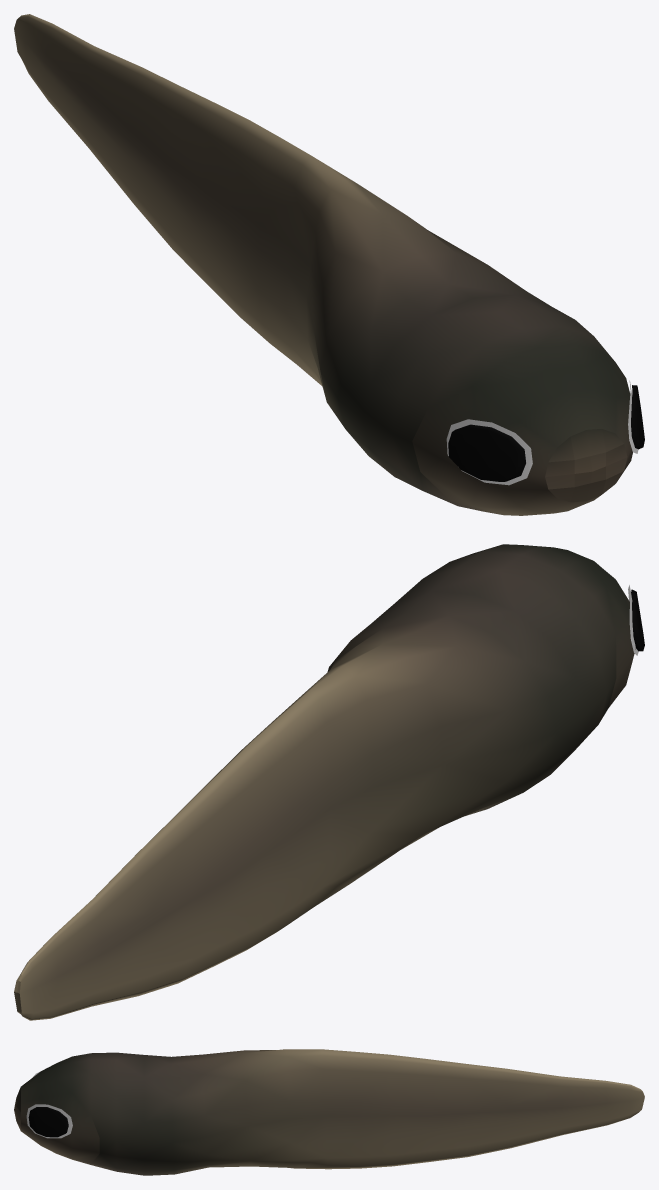
File: underwater-fish-tadpole_v1.glb
3 views of the same model, one above another, from view 1: azimuth 30°, elevation 25°; view 2: azimuth 150°, elevation 25°; view 3: azimuth 270°, elevation 25° (orthographic). The views are drawn at different scales.
Parts seen in each view (by area): view 1: Tadpole; view 2: Tadpole; view 3: Tadpole.
Part boxes in pixels (x1,y1,x2,y2): Tadpole: [14, 14, 644, 515]; Tadpole: [14, 544, 644, 1020]; Tadpole: [14, 1049, 644, 1175].
Bounding box in the file's own units: 0.0111 × 0.0105 × 0.05.
